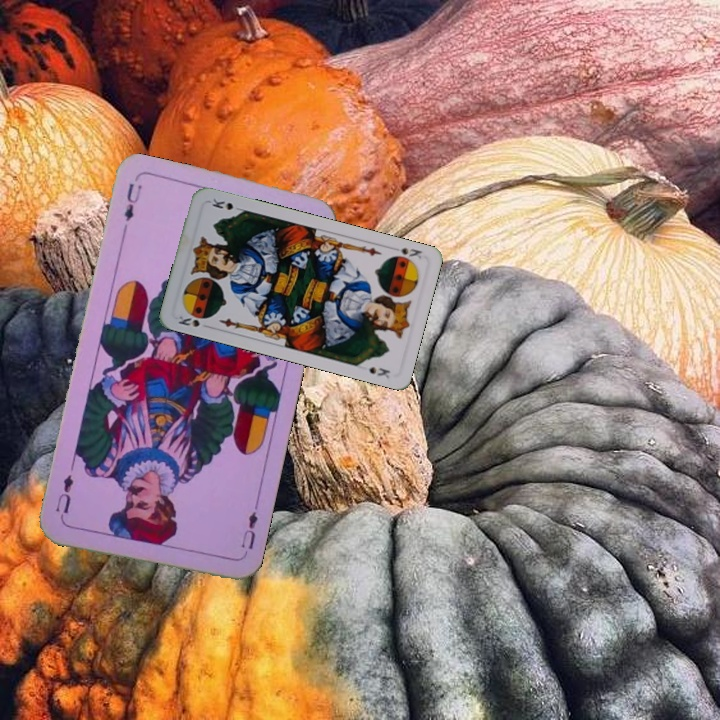EU: (237, 508, 260, 559), (120, 179, 145, 224)
SK: (174, 311, 213, 331), (387, 243, 425, 262)
